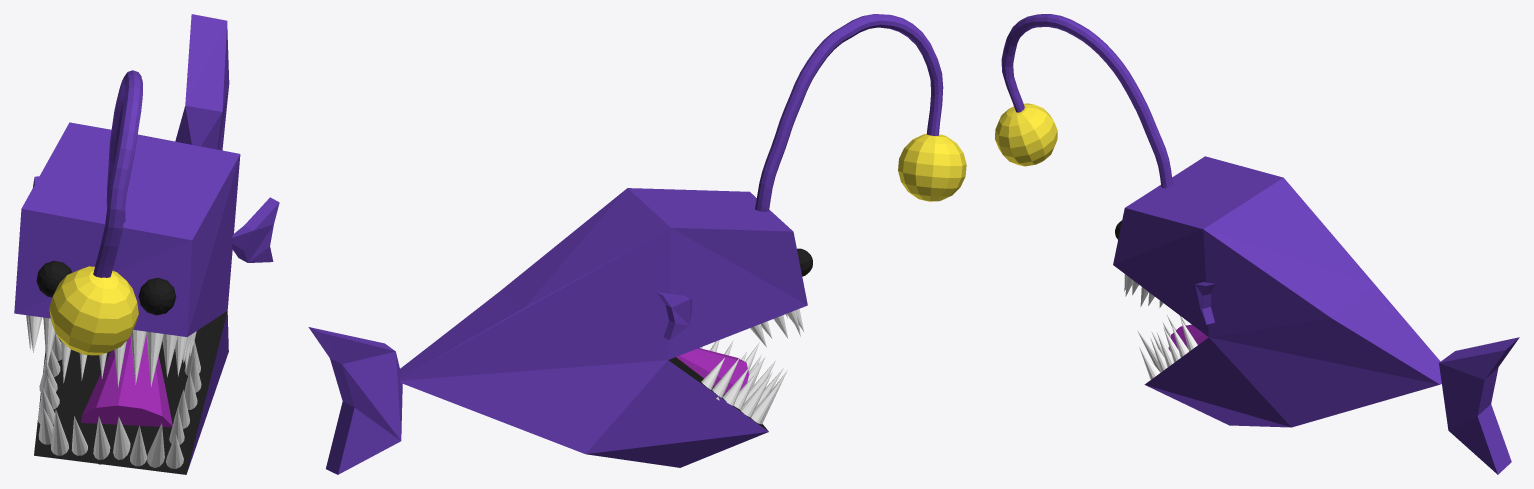
Rendered from fish.dae.
The picture shows the model from 3 angles, left to right: view 1: azimuth 30°, elevation 25°; view 2: azimuth 150°, elevation 25°; view 3: azimuth 270°, elevation 25°; orthographic projection. The views are drawn at different scales.
Parts seen in each view (by area): view 1: fishModel; view 2: fishModel; view 3: fishModel.
Part boxes in pixels (x1,y1,x2,y2): fishModel: (14,14,279,474); fishModel: (308,14,966,474); fishModel: (995,14,1519,474).
Bounding box in the file's own units: 1.25 × 1.18 × 1.57.
